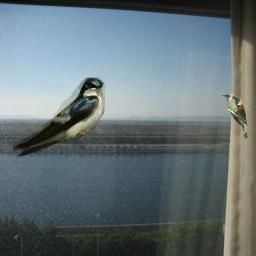Cuckoo: (220, 93, 249, 140)
Swallow: (13, 77, 105, 158)
